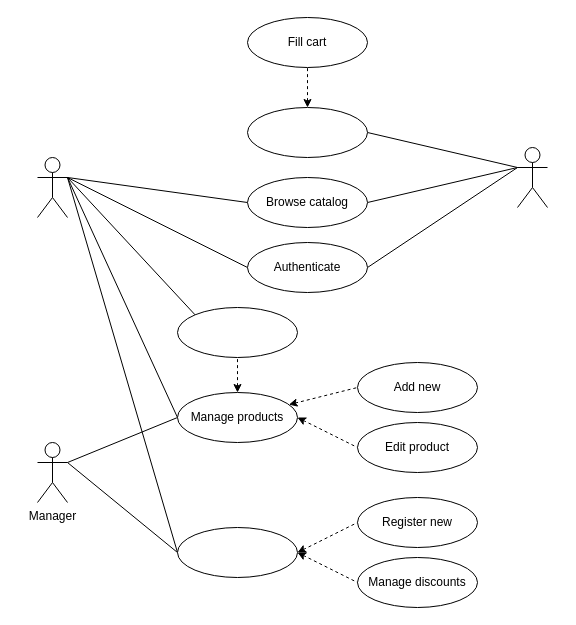
This 576x625 diagram has some shape labels left out. The box of each missing label's shape, as (x1, y1, x2, y2) in pixels:
Administrator: (36, 156, 68, 218)
Customer: (516, 146, 548, 208)
Delete products: (176, 306, 298, 358)
Make order: (246, 106, 368, 158)
Manage user: (176, 526, 298, 578)
